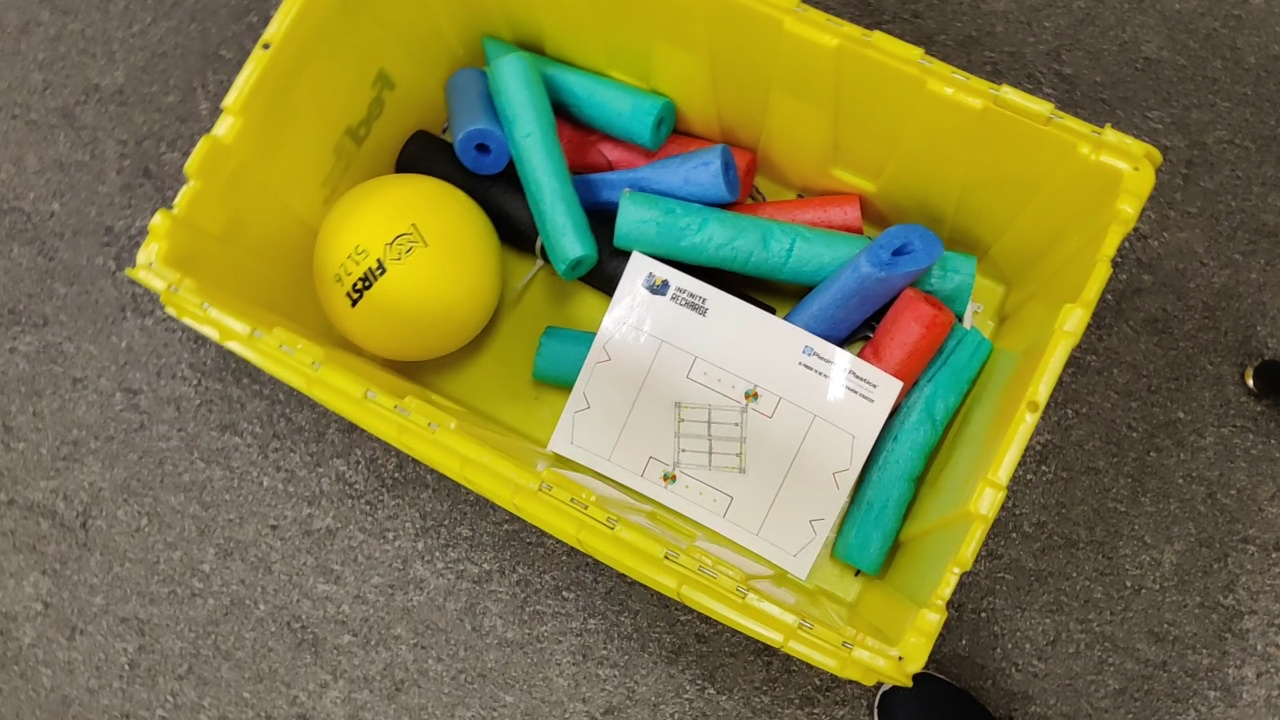Ball: (308, 173, 502, 359)
